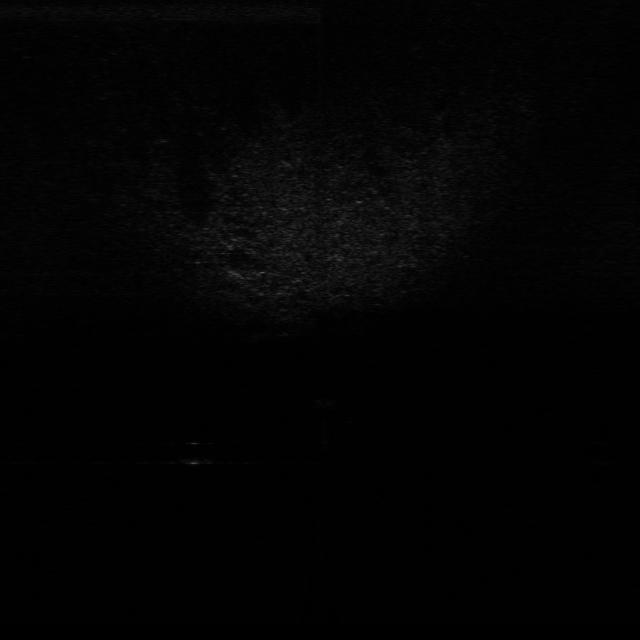ball: (171, 437, 218, 468)
cube: (311, 393, 347, 416)
